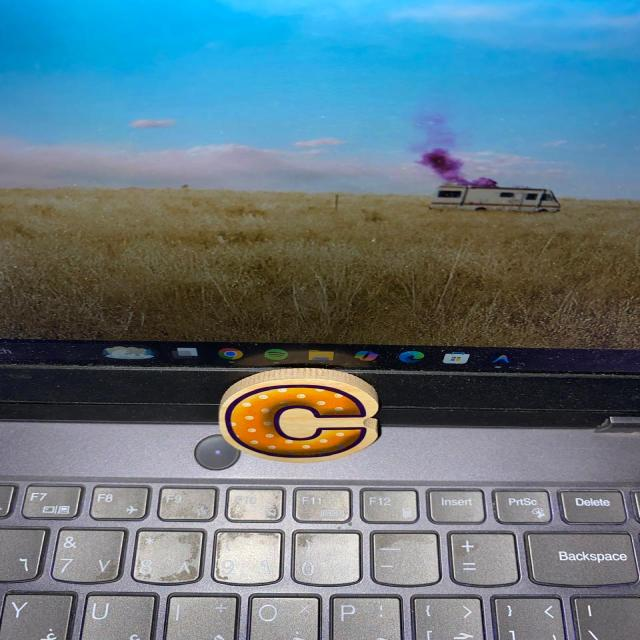C: (219, 369, 377, 461)
